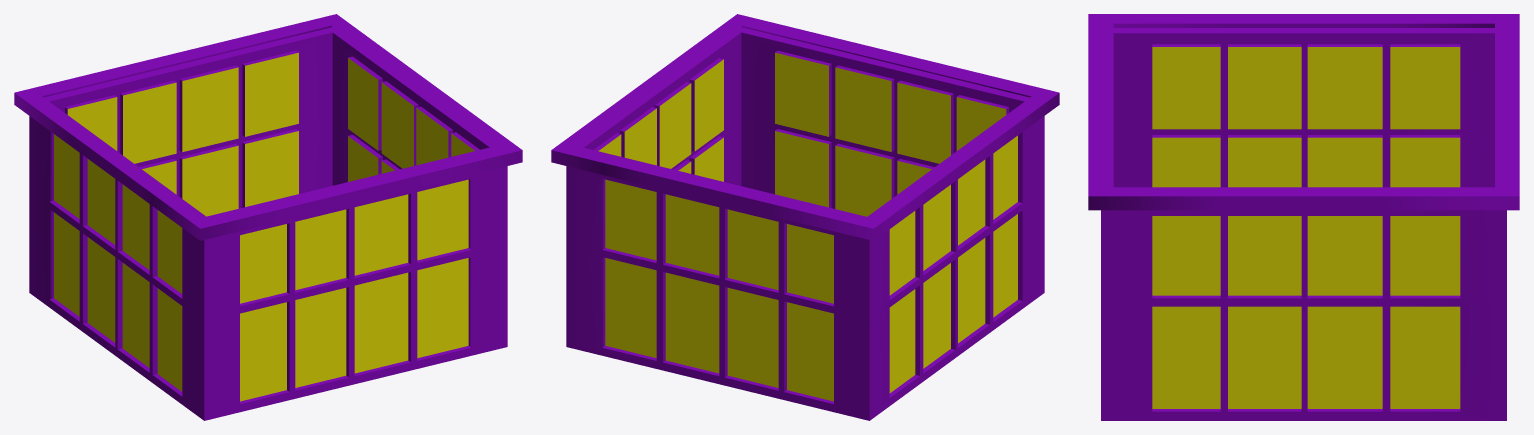
Rendered from Building_Medium_Peice_002.fbx.
The picture shows the model from 3 angles, left to right: view 1: azimuth 30°, elevation 25°; view 2: azimuth 150°, elevation 25°; view 3: azimuth 270°, elevation 25°; orthographic projection. The views are drawn at different scales.
Parts seen in each view (by area): view 1: Building_Medium_Piece_002; view 2: Building_Medium_Piece_002; view 3: Building_Medium_Piece_002.
Boxes of the visible parts, <box> form: Building_Medium_Piece_002: <box>14,14,522,420</box>; Building_Medium_Piece_002: <box>551,14,1059,420</box>; Building_Medium_Piece_002: <box>1088,14,1519,420</box>.
Bounding box in the file's own units: 6800 × 4000 × 6800.
